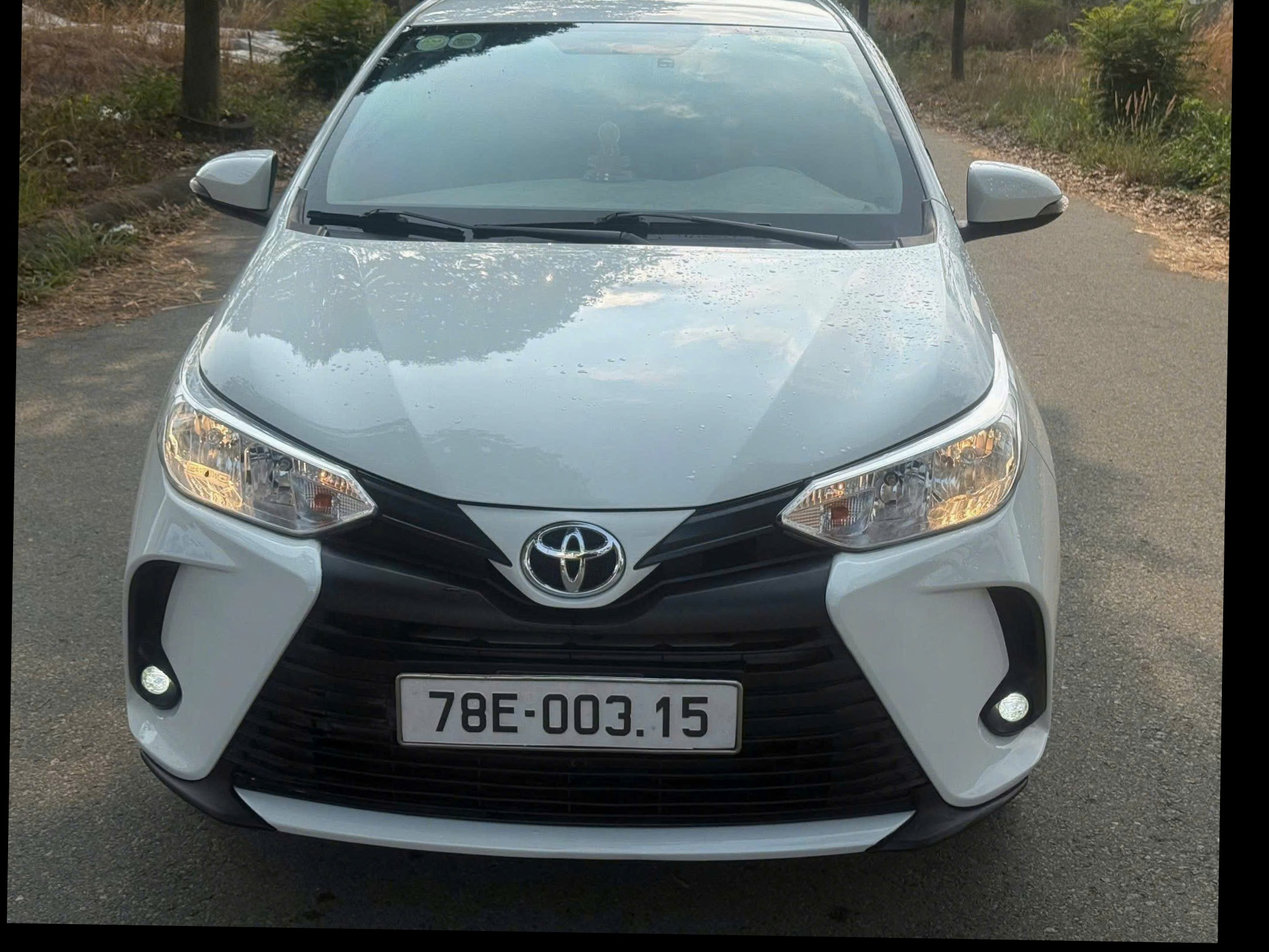Bien-so: (357, 681, 722, 771)
